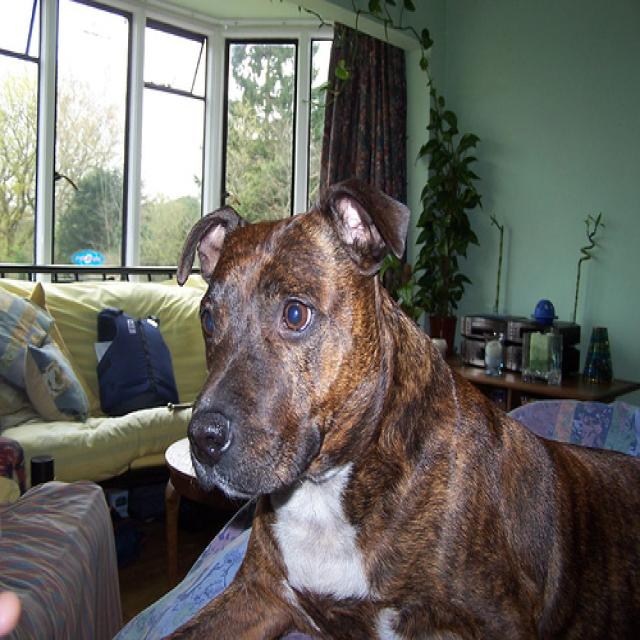dog-staffordshire_bull_terrier: (151, 176, 637, 637)
